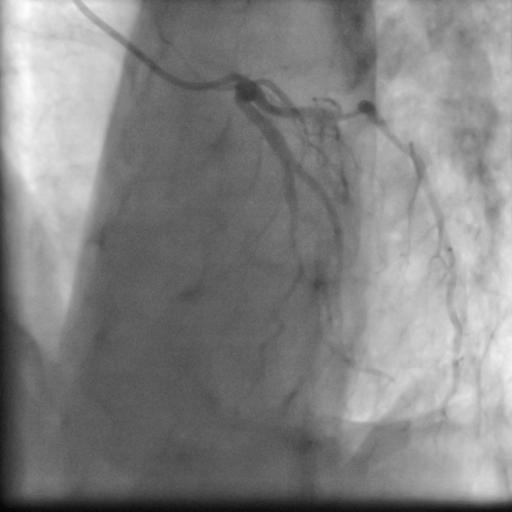Stenosis: (334, 102, 365, 120)
